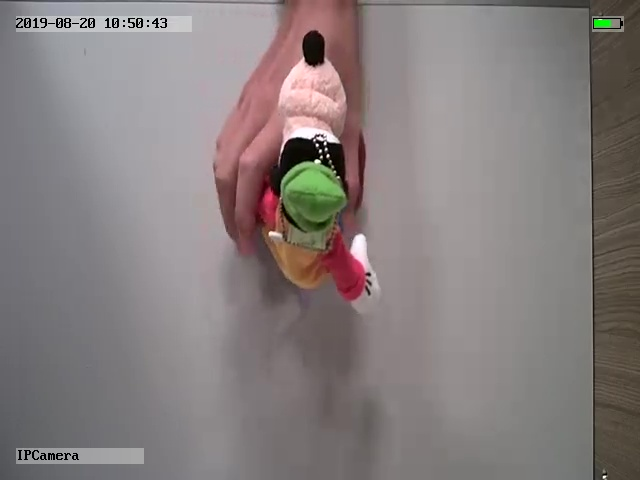goofy: (256, 29, 383, 319)
